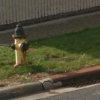Hydrant: (7, 18, 34, 67)
